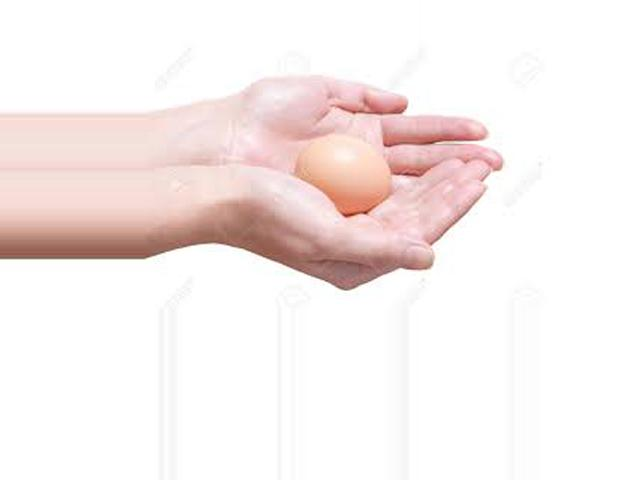egg: (300, 138, 390, 213)
